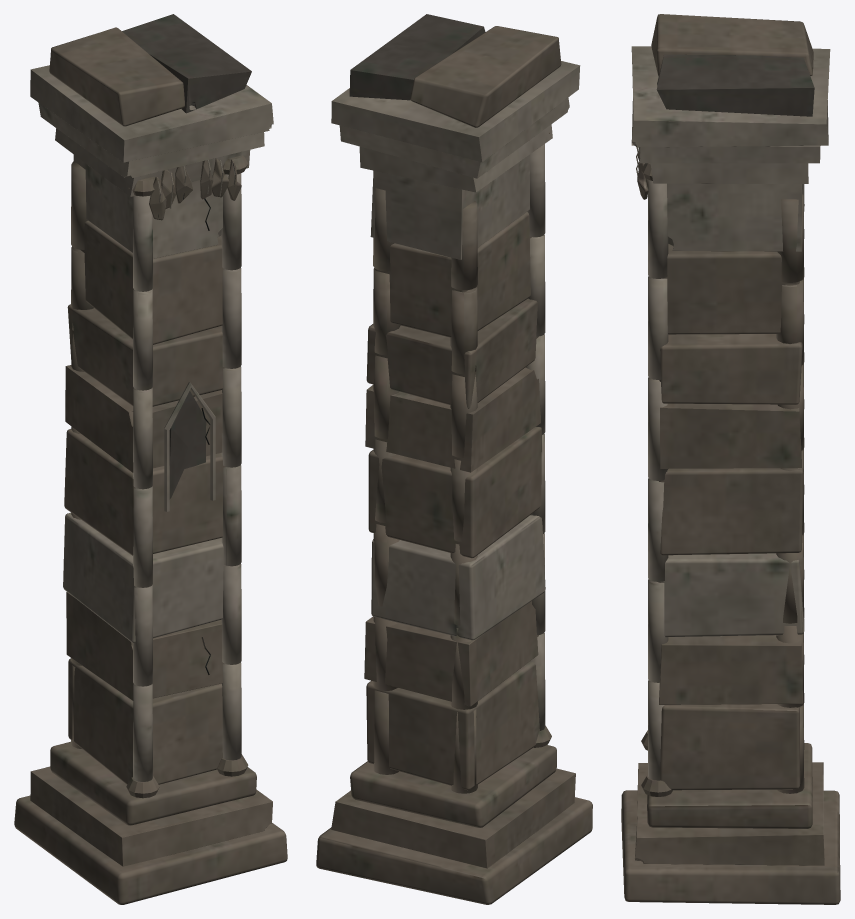
The model's file is pillar.glb.
3 renders of one model, left to right at view 1: azimuth 30°, elevation 25°; view 2: azimuth 150°, elevation 25°; view 3: azimuth 270°, elevation 25°, orthographic. The views are drawn at different scales.
Visible parts, largest first — view 1: Body_Baked; view 2: Body_Baked; view 3: Body_Baked.
Part boxes in pixels (x1=…): Body_Baked: x1=14, y1=14, x2=287, y2=904; Body_Baked: x1=316, y1=14, x2=592, y2=904; Body_Baked: x1=621, y1=14, x2=840, y2=904.
Bounding box in the file's own units: 1.13 × 4.99 × 1.21.
Materials: 1 (1 with a texture image).
